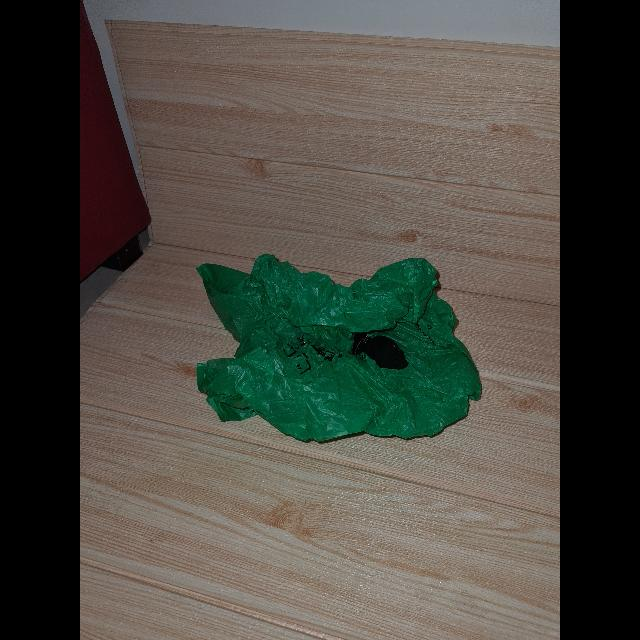plastic_bag: (166, 230, 498, 456)
